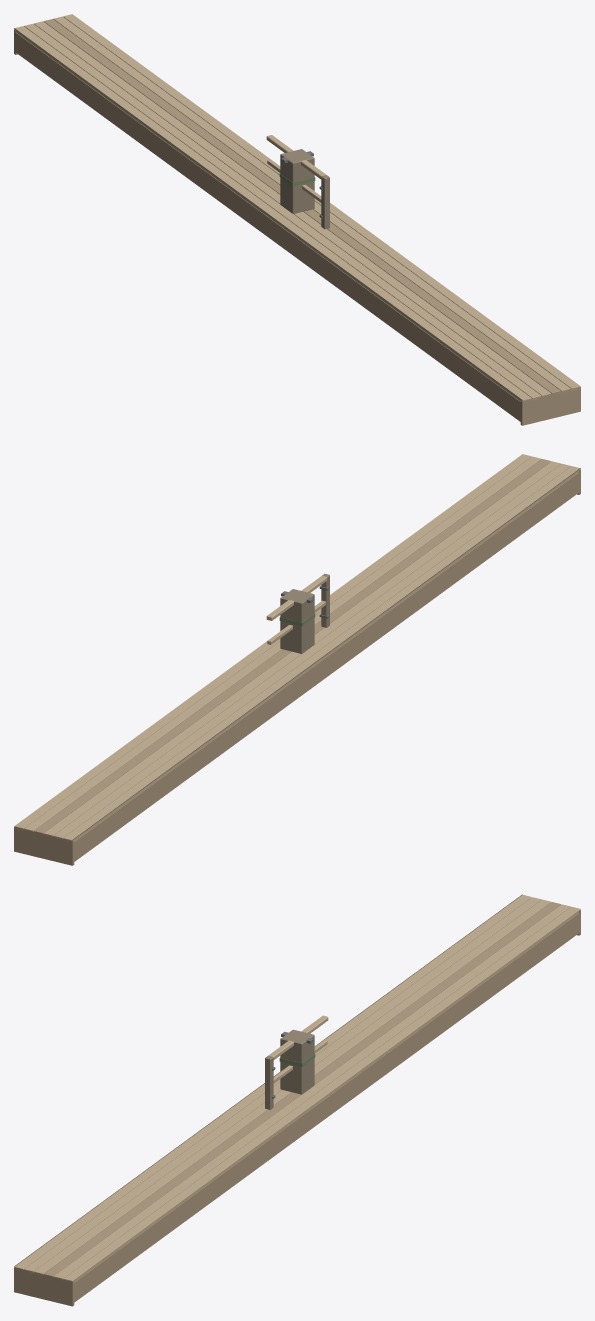
Rendered from skate_pier.glb.
3 views of the same model, one above another, from view 1: azimuth 30°, elevation 25°; view 2: azimuth 150°, elevation 25°; view 3: azimuth 330°, elevation 25° (orthographic).
Parts seen in each view (by area): view 1: kp_deck_mesh, kp_pile_mesh, kp_rail_mesh; view 2: kp_deck_mesh, kp_pile_mesh, kp_rail_mesh; view 3: kp_deck_mesh, kp_pile_mesh, kp_rail_mesh.
Part boxes in pixels (left/top/right/bottom): kp_deck_mesh: left=14, top=14, right=580, bottom=425; kp_pile_mesh: left=279, top=149, right=315, bottom=213; kp_rail_mesh: left=266, top=135, right=329, bottom=229; kp_deck_mesh: left=14, top=454, right=580, bottom=865; kp_pile_mesh: left=279, top=589, right=315, bottom=653; kp_rail_mesh: left=266, top=573, right=329, bottom=644; kp_deck_mesh: left=14, top=894, right=580, bottom=1306; kp_pile_mesh: left=279, top=1029, right=315, bottom=1094; kp_rail_mesh: left=265, top=1015, right=328, bottom=1109.
Bounding box in the file's own units: 1.2 × 1.5 × 18.
